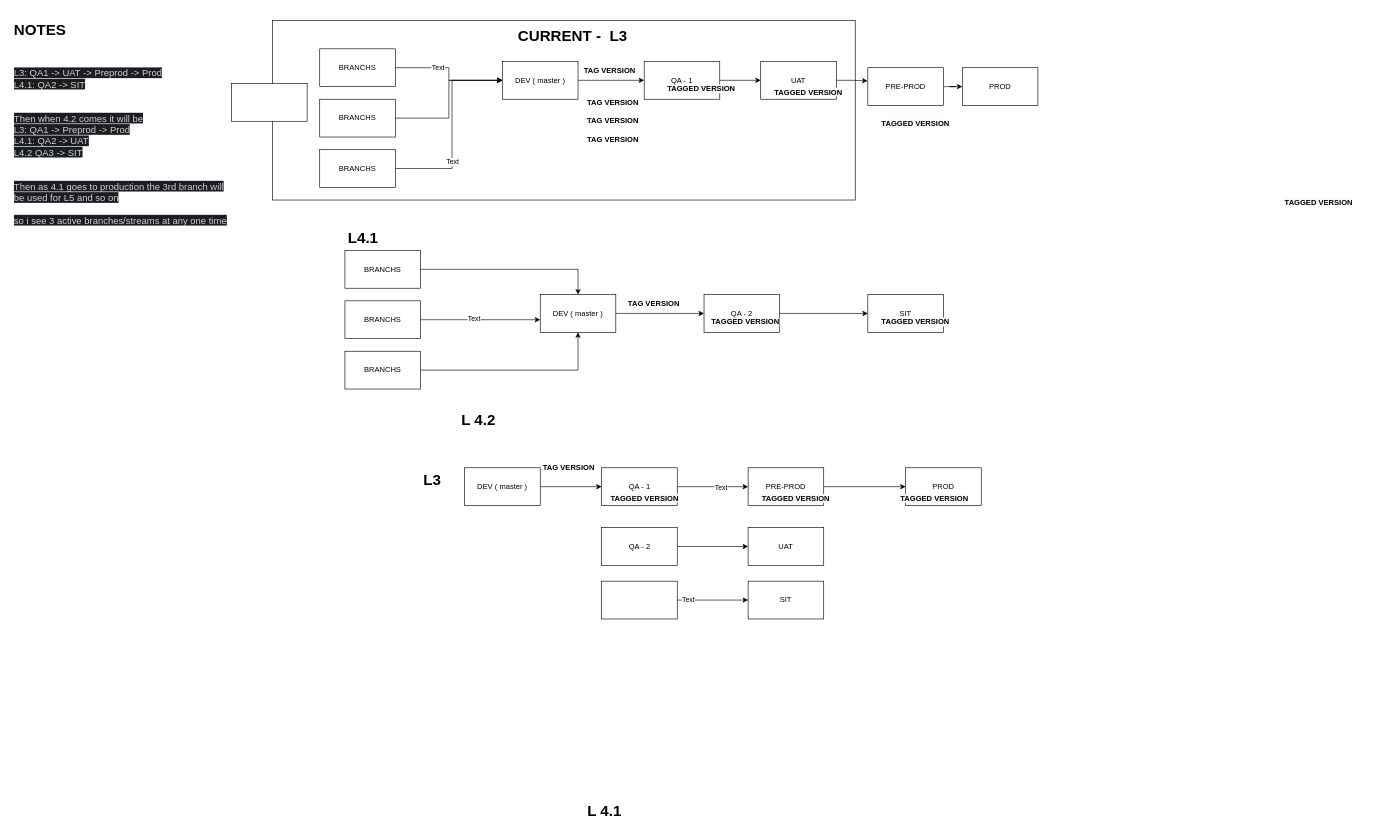
Image size: 1382x834. Some labels were removed from this diagram. The shapes that lost their labels are listed below. From the top down, each one's box as (x1, y1, x2, y2) in pixels, then its label:
(231, 83, 307, 121): TICKETS
(601, 581, 677, 619): QA - 3
